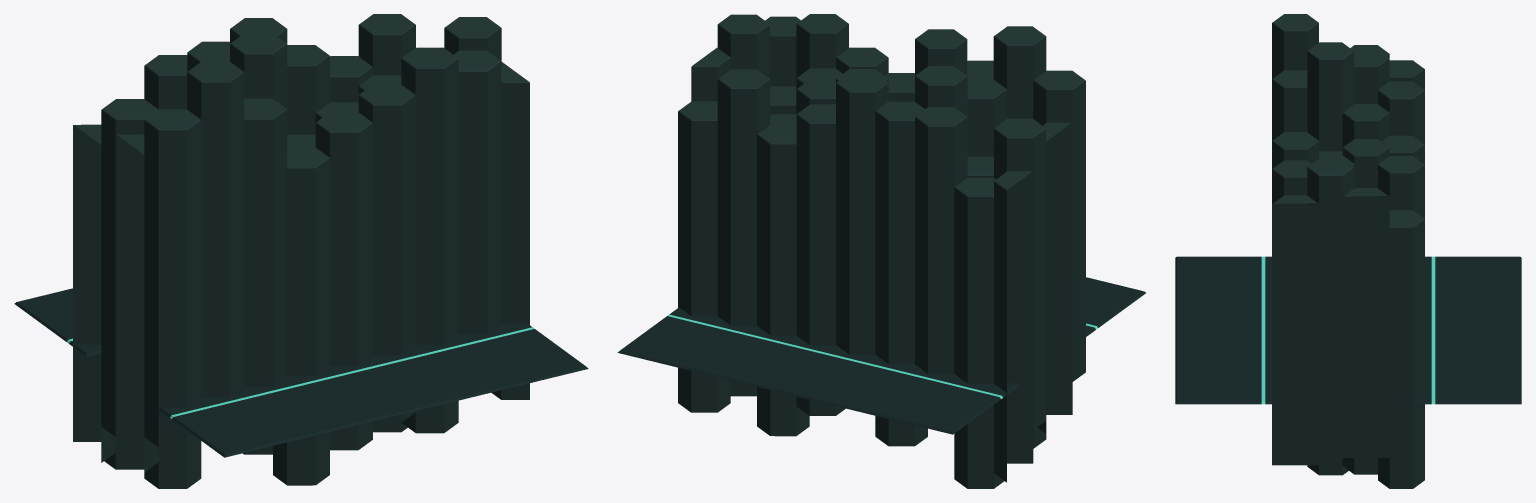
Rendered from Walls_Straight_Var01.fbx.
3 views of the same model, side by side, from view 1: azimuth 30°, elevation 25°; view 2: azimuth 150°, elevation 25°; view 3: azimuth 270°, elevation 25° (orthographic). The views are drawn at different scales.
Visible parts, largest first — view 1: Walls_Straight_Var01; view 2: Walls_Straight_Var01; view 3: Walls_Straight_Var01.
Part boxes in pixels (bbox=[...]): Walls_Straight_Var01: bbox=[14, 14, 588, 488]; Walls_Straight_Var01: bbox=[617, 14, 1145, 488]; Walls_Straight_Var01: bbox=[1175, 14, 1521, 488].
Size of the model in its own units: 600 by 683 by 600.
